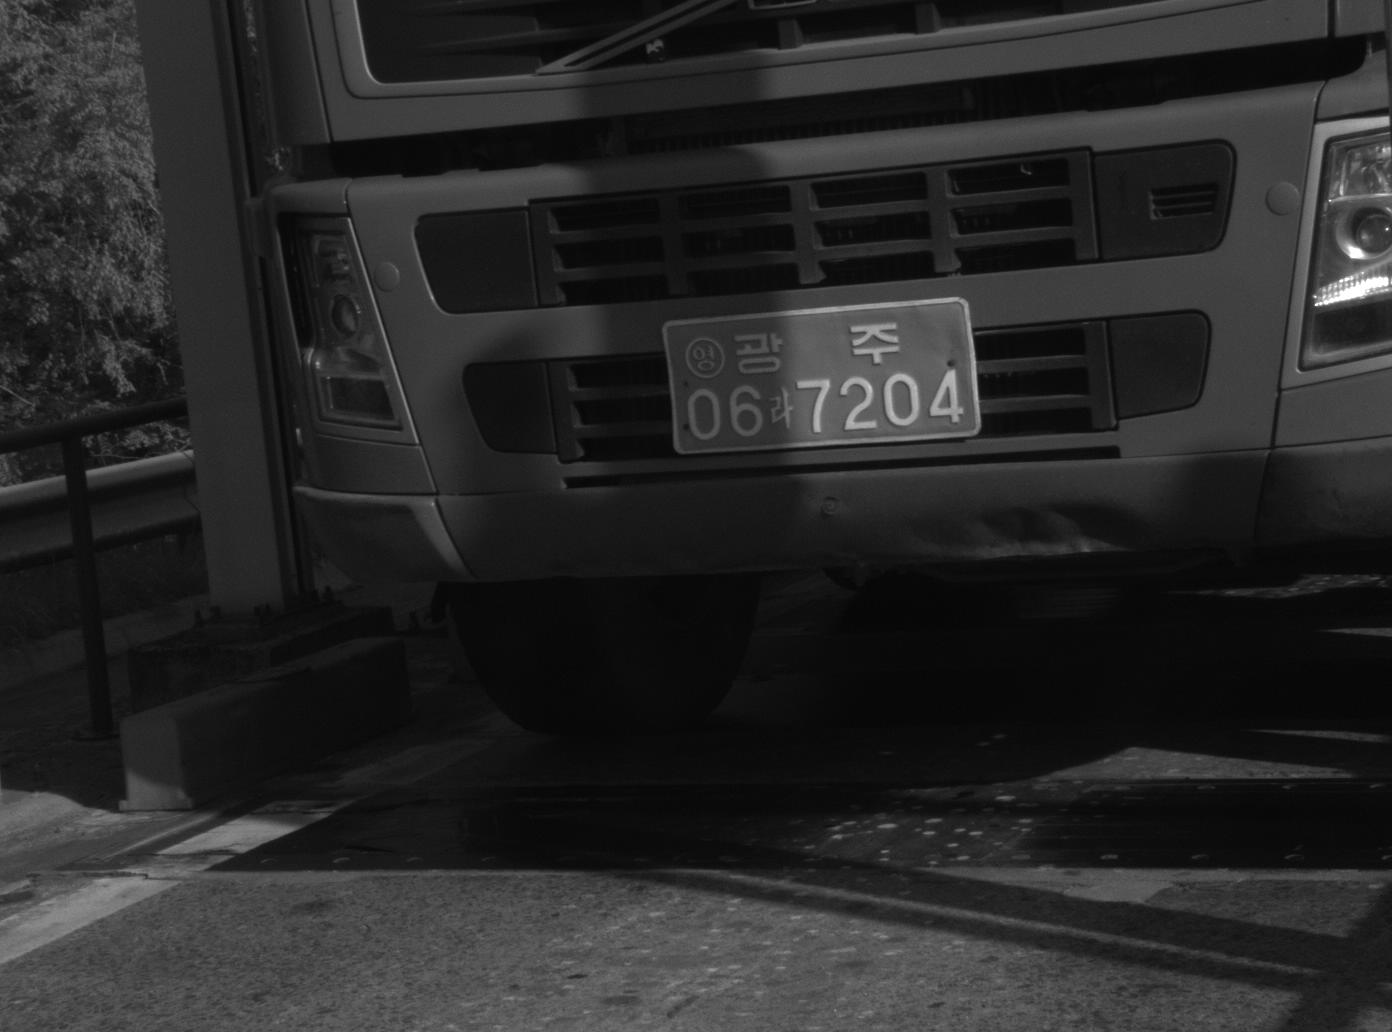car: (226, 2, 1392, 744)
plate: (647, 291, 986, 458)
